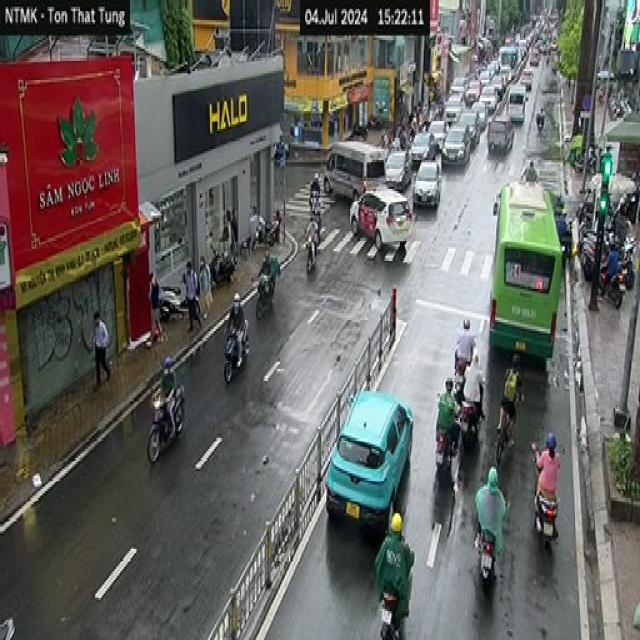Green: (598, 155, 612, 224)
